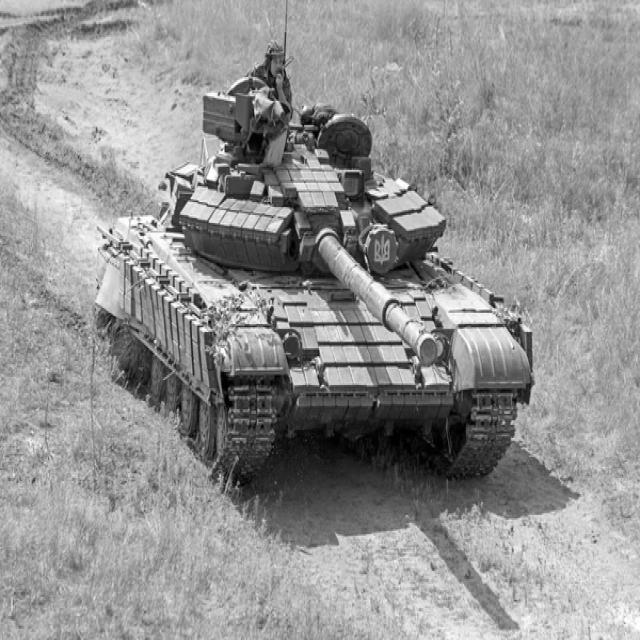Tank: (89, 99, 540, 474)
